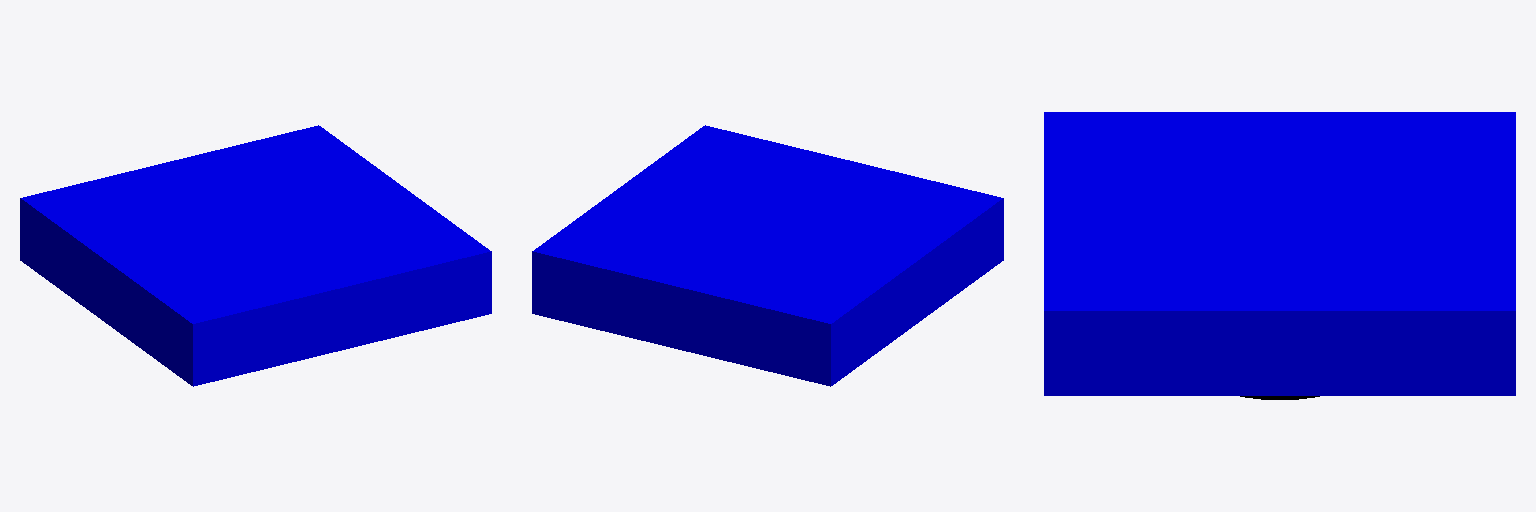
The robot description file, URDF, robot "single_wheel_robot":
<?xml version="1.0"?>
<robot xmlns:xacro="http://www.ros.org/wiki/xacro" name="single_wheel_robot">

  <!-- Base Link -->
  <link name="base_link">
    <visual>
      <geometry>
        <box size="0.5 0.5 0.1"/>
      </geometry>
      <material name="blue">
        <color rgba="0.0 0.0 1.0 1.0"/>
      </material>
    </visual>
    <collision>
      <geometry>
        <box size="0.5 0.5 0.1"/>
      </geometry>
    </collision>
    <inertial>
      <mass value="1.0"/>
      <inertia ixx="0.1" ixy="0.0" ixz="0.0" iyy="0.1" iyz="0.0" izz="0.1"/>
    </inertial>
  </link>

  <!-- Wheel Link -->
  <link name="wheel">
    <visual>
      <geometry>
        <cylinder radius="0.1" length="0.05"/>
      </geometry>
      <material name="black">
        <color rgba="0.0 0.0 0.0 1.0"/>
      </material>
    </visual>
    <collision>
      <geometry>
        <cylinder radius="0.1" length="0.05"/>
      </geometry>
    </collision>
    <inertial>
      <mass value="0.5"/>
      <inertia ixx="0.01" ixy="0.0" ixz="0.0" iyy="0.01" iyz="0.0" izz="0.01"/>
    </inertial>
  </link>

  <!-- Joint -->
  <joint name="wheel_joint" type="continuous">
    <parent link="base_link"/>
    <child link="wheel"/>
    <origin xyz="0 0 -0.1" rpy="0 0 0"/>
    <axis xyz="0 1 0"/>
  </joint>

  <ros2_control name="single_wheel_robot" type="system">
    <hardware>
      <plugin>mason_hardware/MasonInterface</plugin>
      <param name="left_motor_name">MotorJointLeft</param>
      <param name="right_motor_name">MotorJointRight</param>
      <param name="horizontal_motor_name">MotorTop</param>
      <param name="device">/dev/ttyACM0</param>
      <param name="baud_rate">115200</param>
    </hardware>
    <joint name="wheel_joint">
      <command_interface name="velocity"/>
      <state_interface name="position"/>
      <state_interface name="velocity"/>
    </joint>
  </ros2_control>
</robot>

--- Facts derived from the render (not from the file) ---
Views: 3 orthographic renders of the robot side by side, from view 1: azimuth 30°, elevation 25°; view 2: azimuth 150°, elevation 25°; view 3: azimuth 270°, elevation 25°.
Model single_wheel_robot with 2 links and 1 joints (1 continuous), rooted at base_link, posed all joints at 0.
Links seen in each view (by area): view 1: base_link; view 2: base_link; view 3: base_link.
Link boxes in pixels (x1=…): base_link: x1=20, y1=125, x2=491, y2=386; base_link: x1=532, y1=125, x2=1003, y2=386; base_link: x1=1044, y1=112, x2=1515, y2=395.
Bounding box of the posed robot: 0.5 × 0.5 × 0.175 m (x, y, z).
Geometry: primitives only (box / cylinder / sphere), no mesh files.
